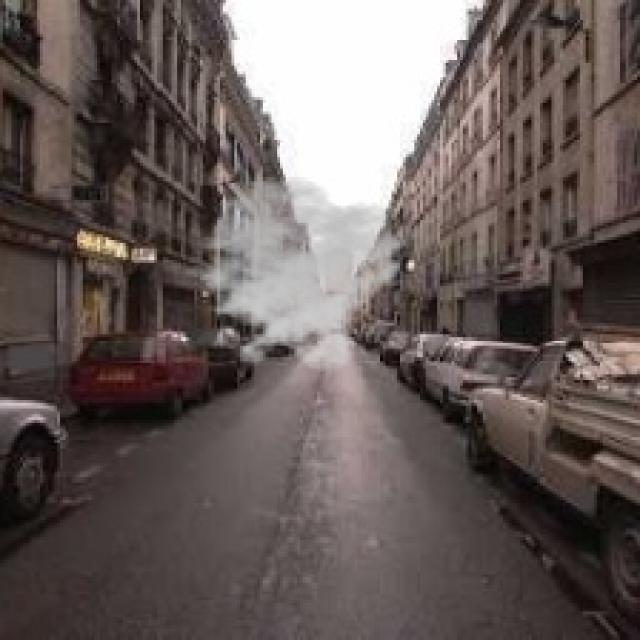Smoke: (172, 174, 412, 374)
